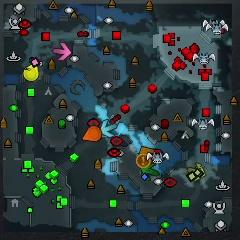p4: (23, 64, 39, 81)
p5: (83, 125, 101, 140)
x1: (52, 43, 72, 61)
x2: (187, 162, 205, 181)
x3: (101, 119, 118, 137)
x4: (140, 163, 159, 180)
x5: (139, 146, 154, 155)
